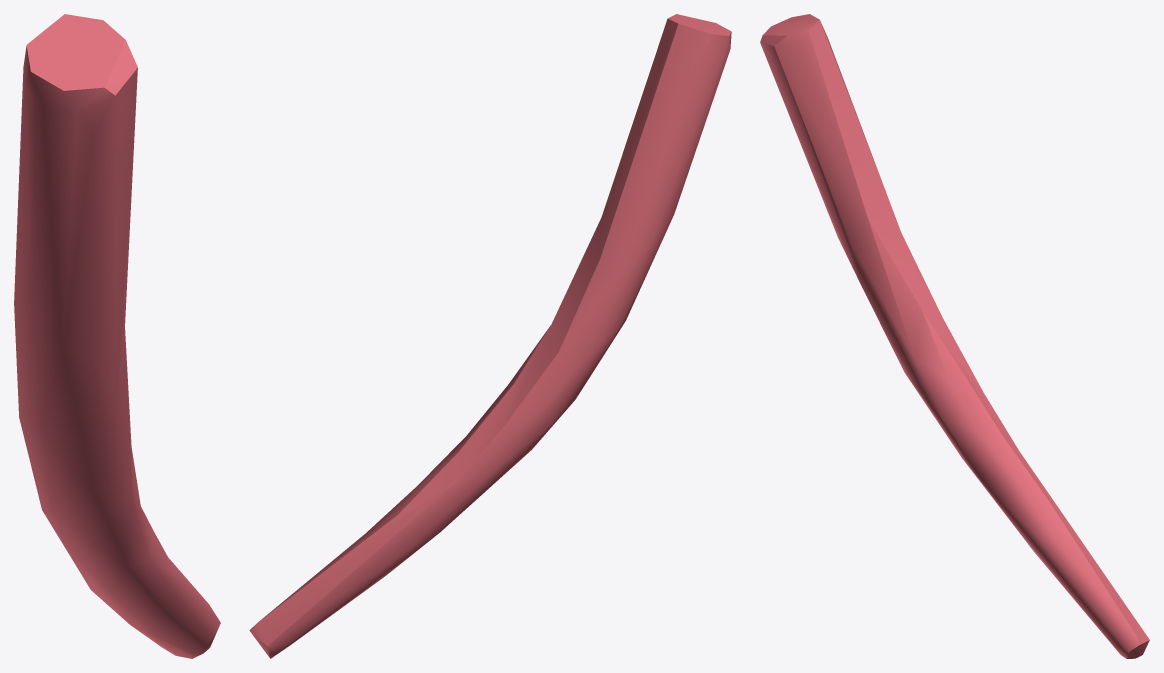
The model's file is fma8632_fj6079.glb.
3 renders of one model, left to right at view 1: azimuth 30°, elevation 25°; view 2: azimuth 150°, elevation 25°; view 3: azimuth 270°, elevation 25°, orthographic. The views are drawn at different scales.
Visible parts, largest first — view 1: FMA8632_FJ6079; view 2: FMA8632_FJ6079; view 3: FMA8632_FJ6079.
Part boxes in pixels (x1,y1,x2,y2): FMA8632_FJ6079: (14,14,220,658); FMA8632_FJ6079: (249,14,731,658); FMA8632_FJ6079: (760,14,1149,658).
Size of the model in its own units: 0.0182 by 0.0334 by 0.0223.
